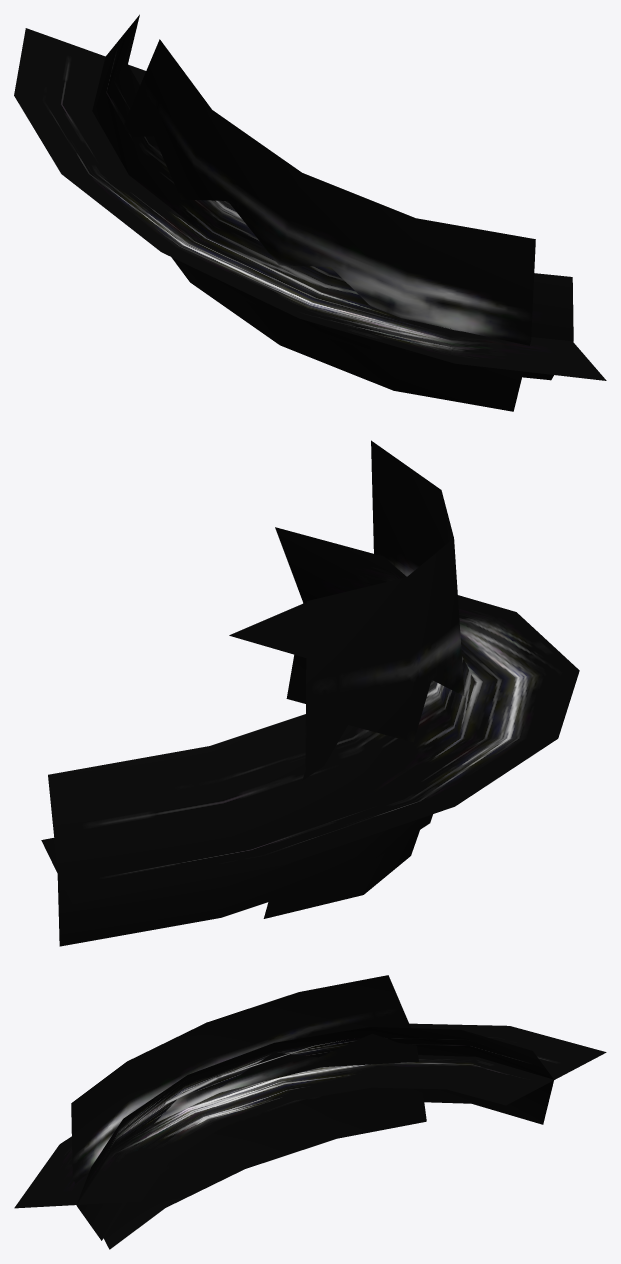
File: Effect_3104attack.fbx
3 views of the same model, one above another, from view 1: azimuth 30°, elevation 25°; view 2: azimuth 150°, elevation 25°; view 3: azimuth 270°, elevation 25° (orthographic). The views are drawn at different scales.
Parts seen in each view (by area): view 1: Effect_1001tattack03, Effect_1001tattack02; view 2: Effect_1001tattack02, Effect_1001tattack03; view 3: Effect_1001tattack03, Effect_1001tattack02, Effect_1001tattack01.
Part boxes in pixels (left/top/right/bottom): Effect_1001tattack03: left=124, top=39, right=535, bottom=411; Effect_1001tattack02: left=14, top=14, right=606, bottom=380; Effect_1001tattack02: left=41, top=527, right=579, bottom=946; Effect_1001tattack03: left=263, top=440, right=464, bottom=918; Effect_1001tattack03: left=71, top=975, right=426, bottom=1249; Effect_1001tattack02: left=14, top=1023, right=606, bottom=1240; Effect_1001tattack01: left=110, top=1040, right=345, bottom=1137.
Bounding box in the file's own units: 2.2 × 1.86 × 4.73.
3 materials, 3 textured.
